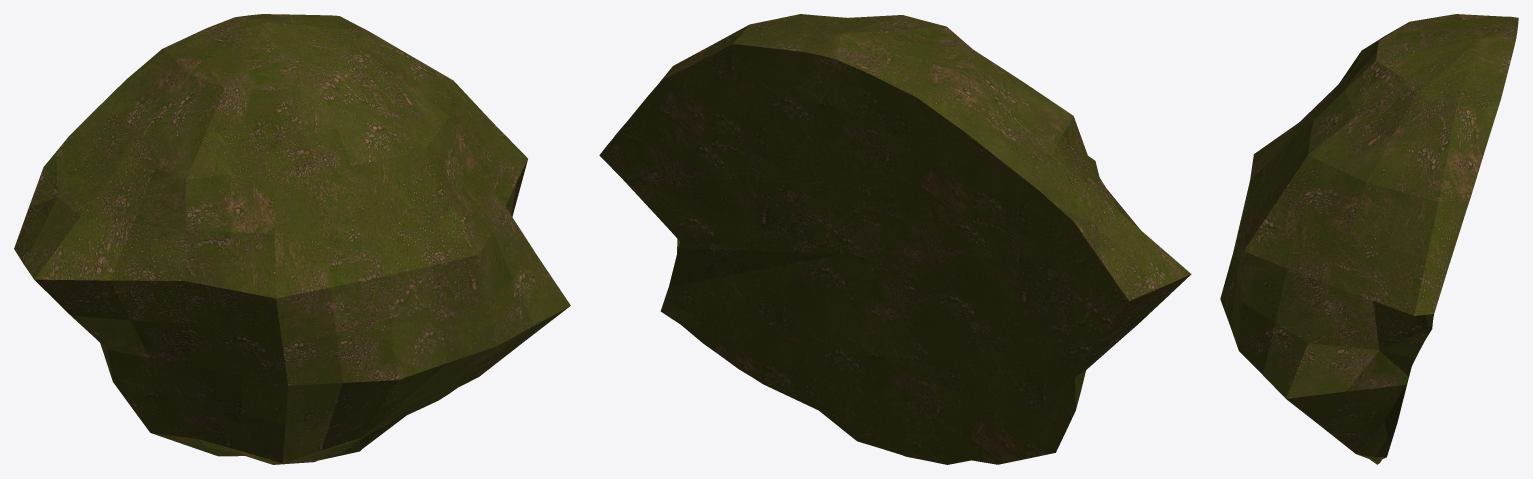
File: boulder_2.glb
The picture shows the model from 3 angles, left to right: view 1: azimuth 30°, elevation 25°; view 2: azimuth 150°, elevation 25°; view 3: azimuth 270°, elevation 25°; orthographic projection. The views are drawn at different scales.
Parts seen in each view (by area): view 1: boulder; view 2: boulder; view 3: boulder.
Part boxes in pixels (left/top/right/bottom): boulder: left=14, top=14, right=570, bottom=464; boulder: left=599, top=14, right=1191, bottom=464; boulder: left=1220, top=14, right=1518, bottom=464.
Size of the model in its own units: 2.95 by 2.26 by 1.54.
1 material, 1 textured.
